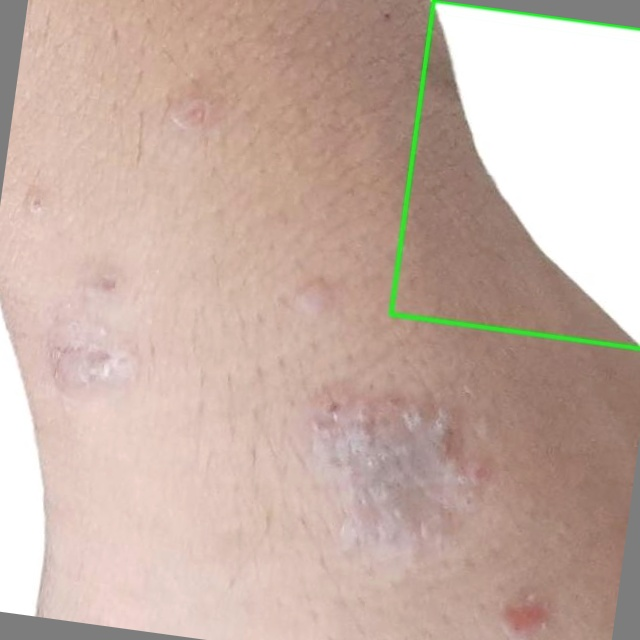Contact Dermatitis: (390, 0, 639, 349)
